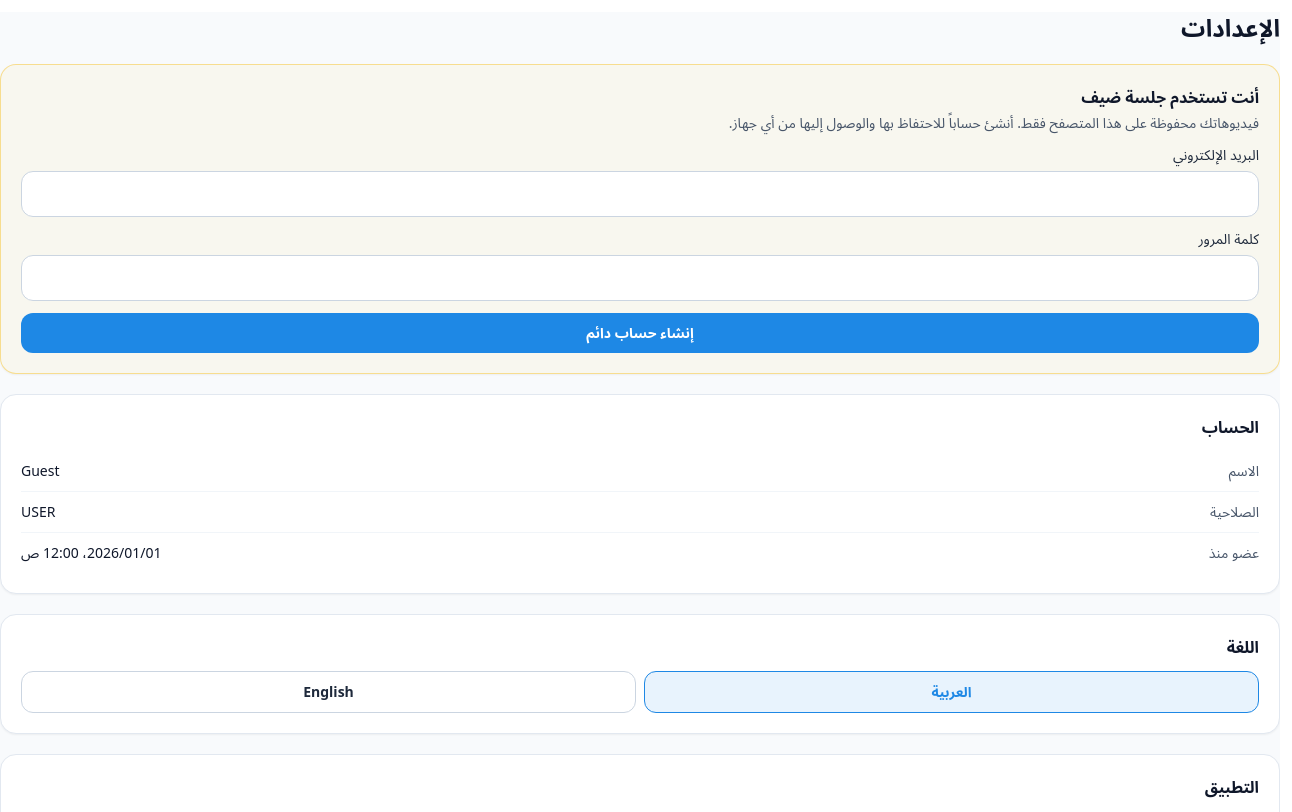
Test case: guest upgrade form in Settings › shows the backend's error and leaves the guest session untouched on conflict
Type "taken@example.com" into the field labelled "البريد الإلكتروني" at (640, 194), box [21, 171, 1259, 217]
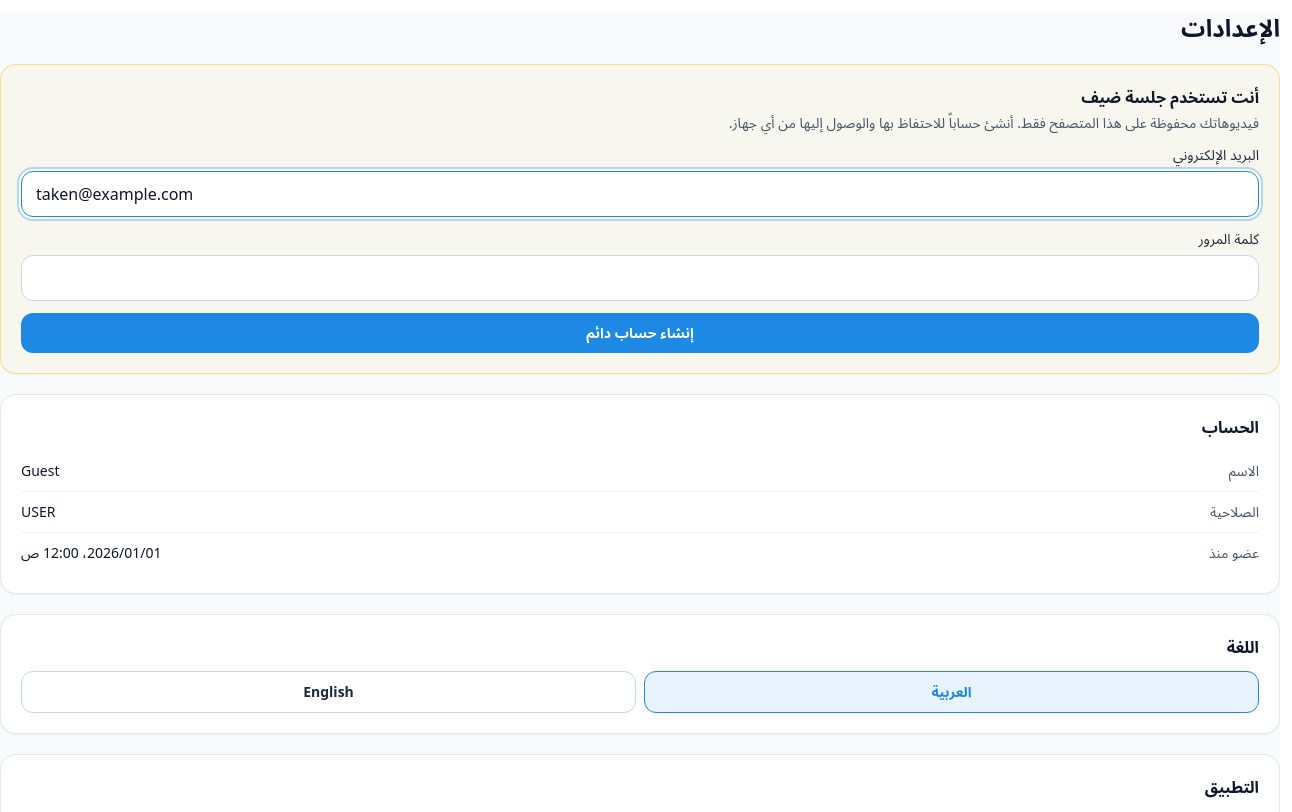
Type "SuperSecret123" into the password field labelled "كلمة المرور" at (640, 278), box [21, 255, 1259, 301]
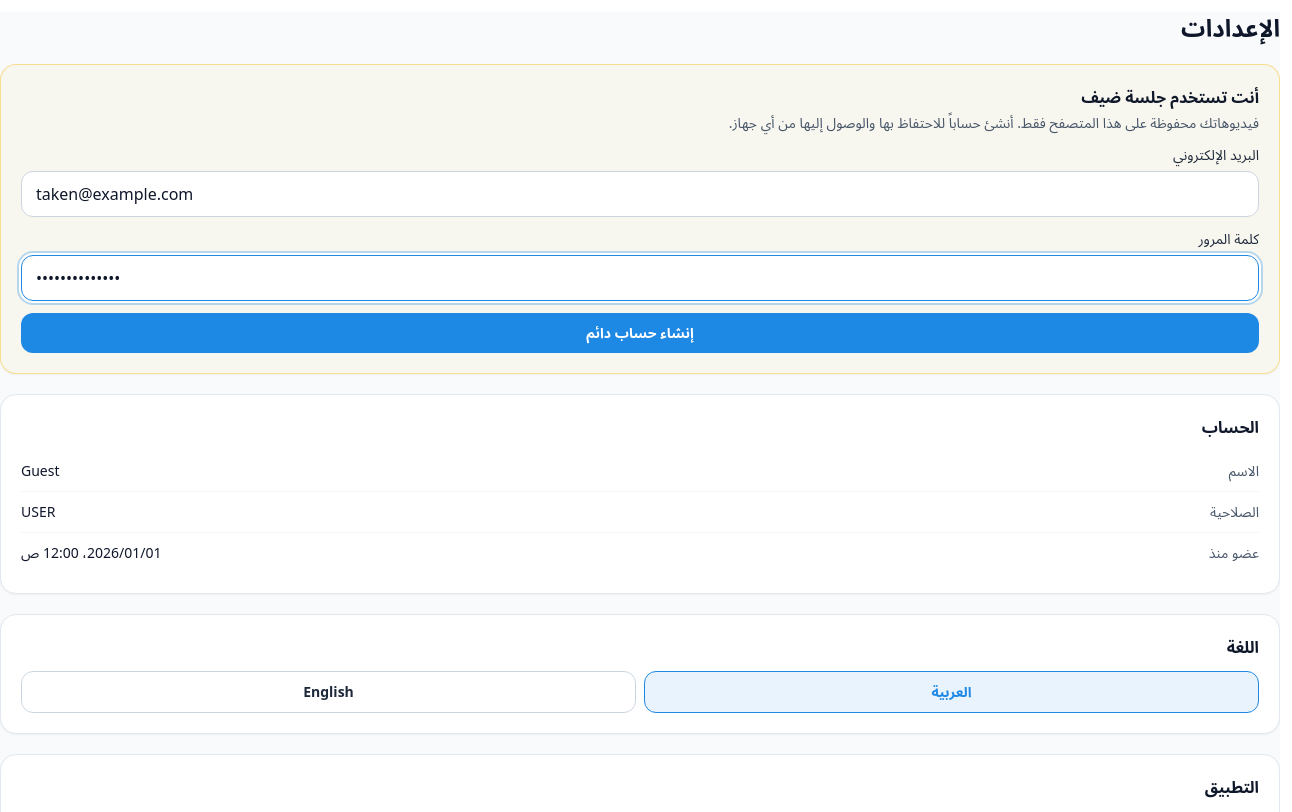
Click the button "إنشاء حساب دائم" at (640, 333), box [21, 313, 1259, 353]
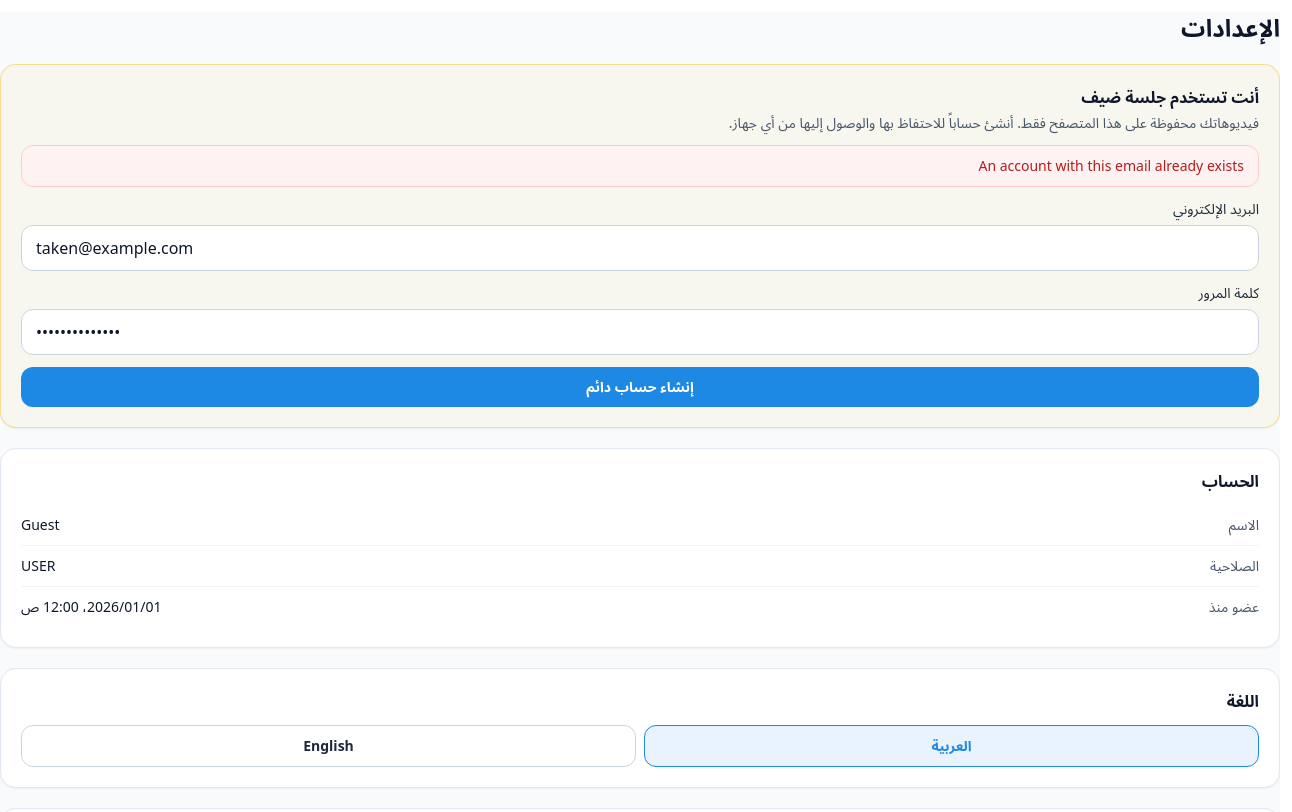
Now the text "An account with this email already exists" is shown, box [21, 145, 1259, 187]
